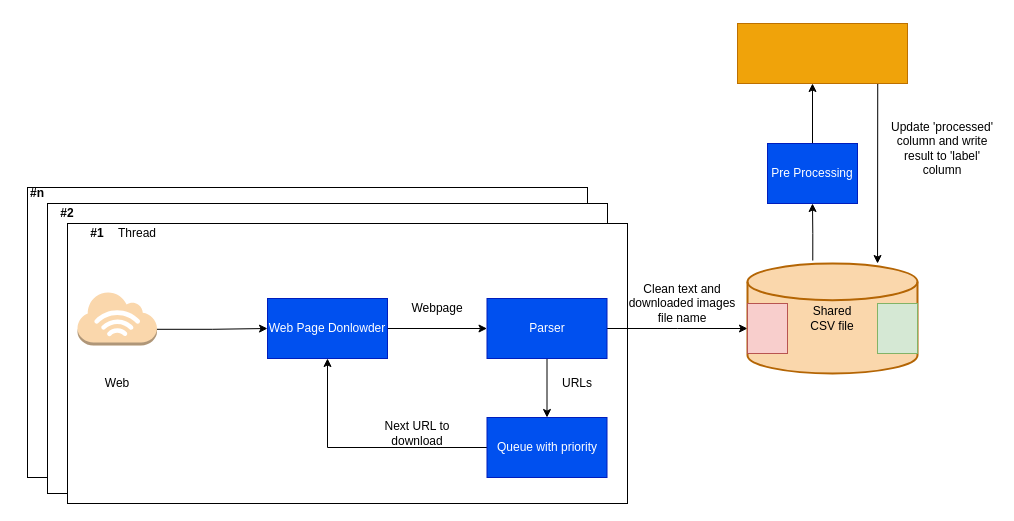
The diagram is 1014 pixels wide and 521 high, and some of its shapes have lost their labels. Each missing label, with the centre of its shape:
"'BERT Sentence' Classifier" goes at pixel 822 53.
"Lock Access" goes at pixel 767 328.
"Unlock Access" goes at pixel 897 328.
